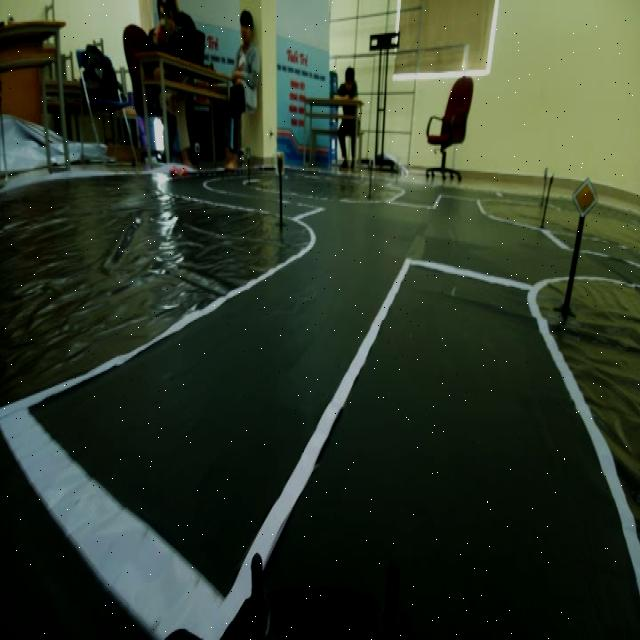priority: (572, 174, 599, 223)
